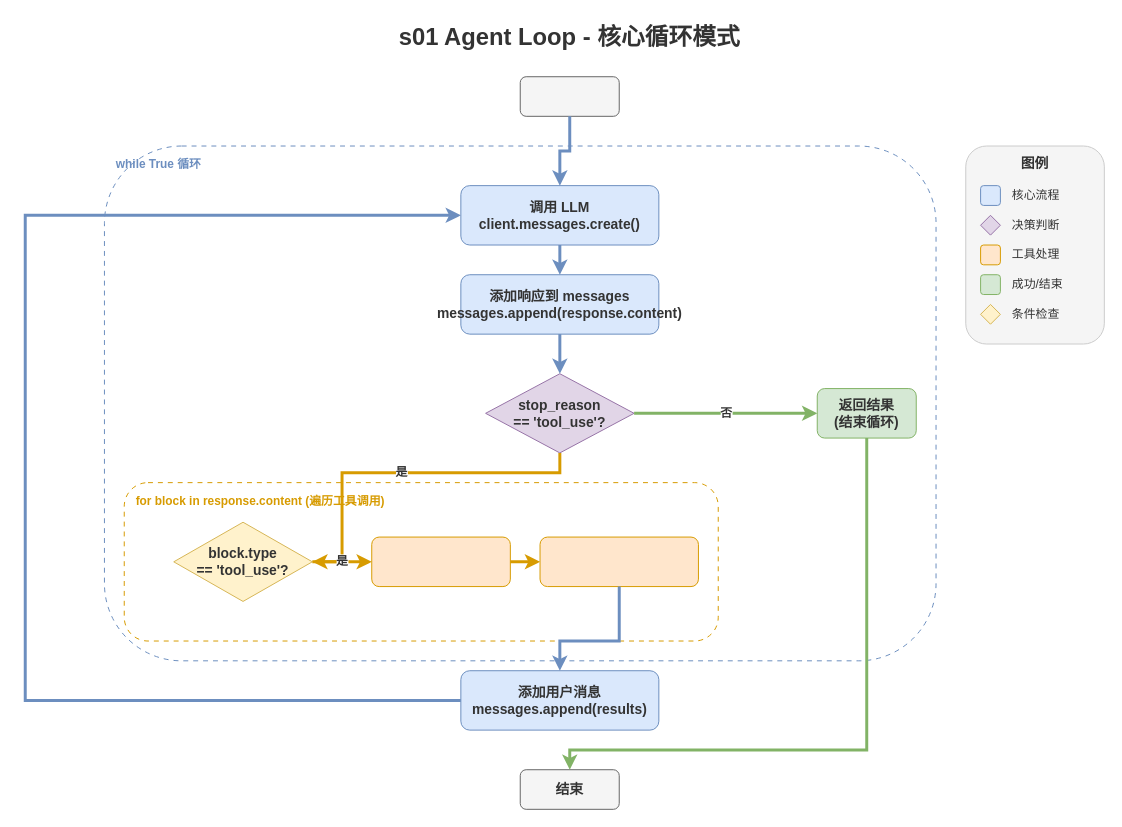
The diagram is 1122 pixels wide and 827 high, and some of its shapes have lost their labels. The shapes that lost their labels are listed below. From the top down, each one's box as (x1, y1, x2, y2) in pixels, then its label:
(519, 76, 619, 116): 开始
(371, 536, 510, 587): 执行工具 run_bash() 等
(539, 536, 698, 587): 添加工具结果到 results
